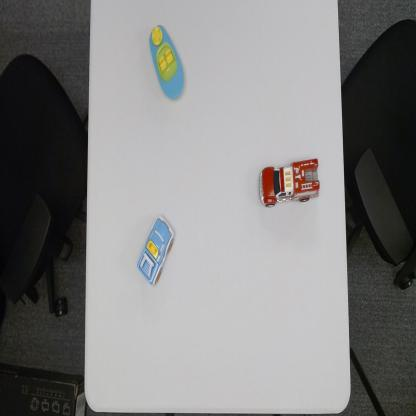Boat: (147, 21, 186, 101)
Car: (136, 212, 176, 288)
Firetruck: (256, 155, 322, 208)
